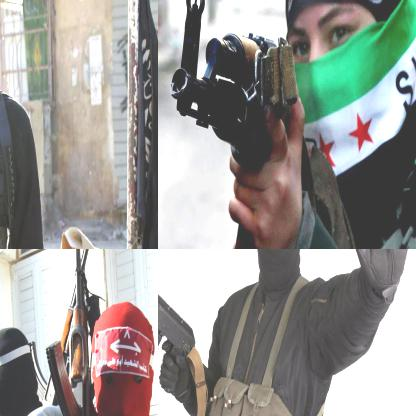rifle: (170, 0, 302, 169), (29, 249, 106, 408), (158, 249, 217, 398), (44, 249, 95, 415)
